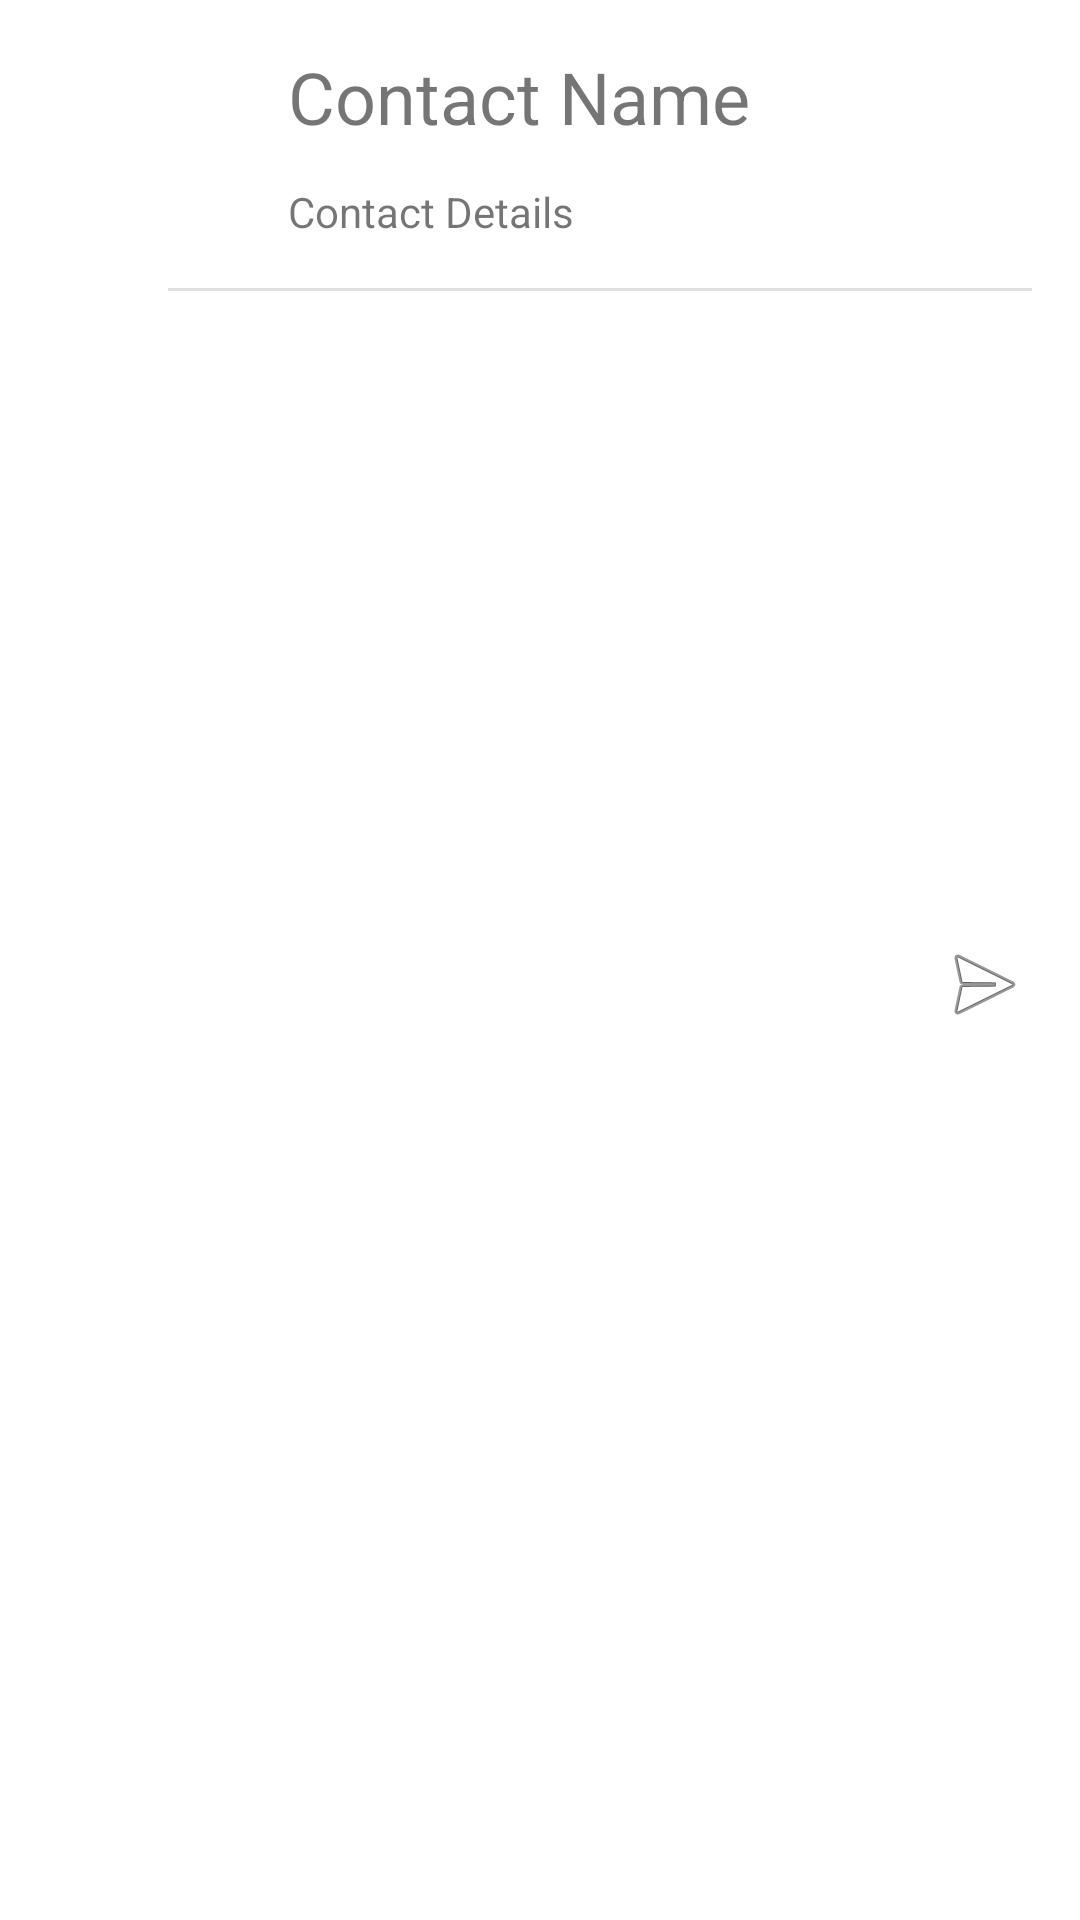

Where to tap for icons on this 1080x1920 app screen, as [x,y]:
send: [985,984]
